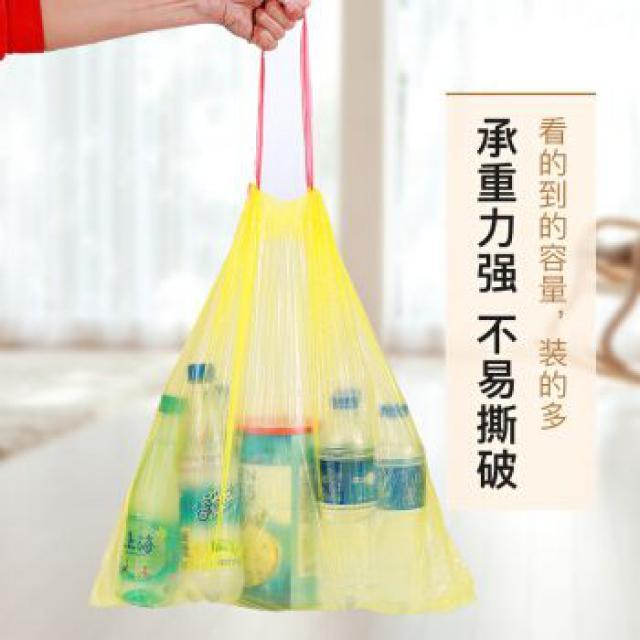waste: (124, 193, 454, 612)
